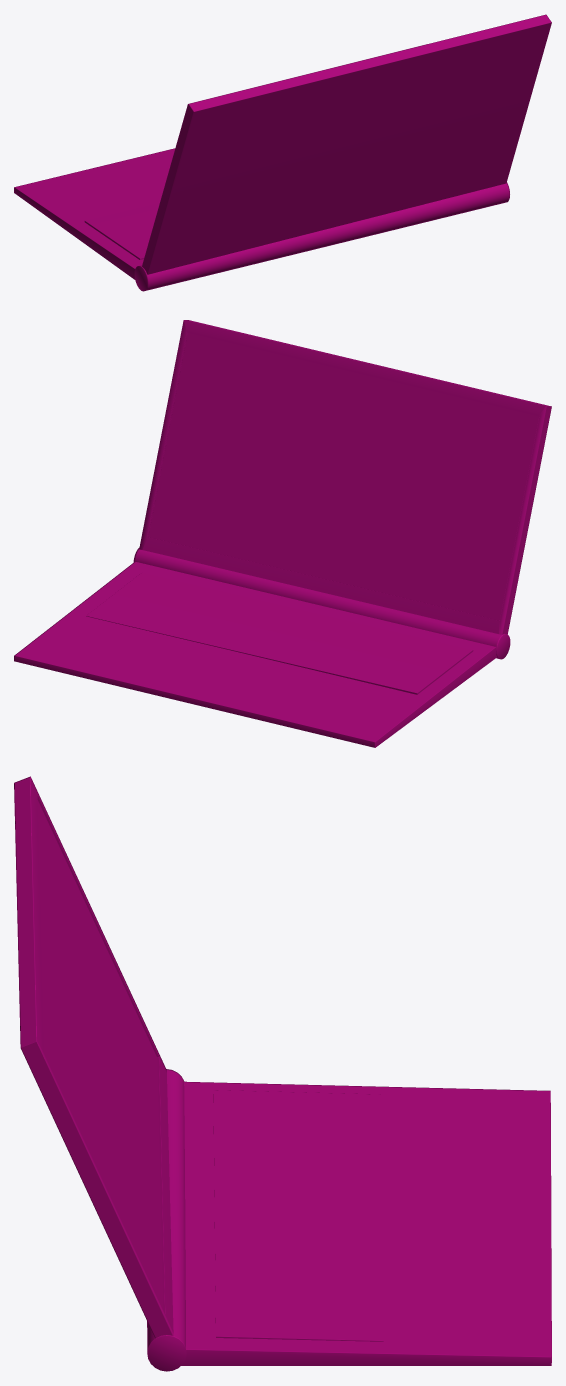
File: Laptop Mod.fbx
The picture shows the model from 3 angles, top to bottom: view 1: azimuth 30°, elevation 25°; view 2: azimuth 150°, elevation 25°; view 3: azimuth 270°, elevation 25°; orthographic projection. The views are drawn at different scales.
Parts seen in each view (by area): view 1: polySurface27, polySurface30, polySurface29, polySurface28; view 2: Laptop_Screen, polySurface30, polySurface28, polySurface27, polySurface29; view 3: polySurface30, polySurface28, Laptop_Screen, polySurface27, polySurface29.
Boxes of the visible parts, x1,y1,x2,y2 form: polySurface27: [142, 14, 551, 274]; polySurface30: [14, 148, 175, 279]; polySurface29: [134, 182, 509, 291]; polySurface28: [84, 202, 159, 259]; Laptop_Screen: [148, 332, 539, 620]; polySurface30: [14, 561, 496, 747]; polySurface28: [86, 572, 473, 694]; polySurface27: [139, 320, 551, 634]; polySurface29: [133, 547, 510, 659]; polySurface30: [181, 1081, 551, 1365]; polySurface28: [213, 1090, 383, 1341]; Laptop_Screen: [37, 800, 163, 1309]; polySurface27: [14, 776, 173, 1338]; polySurface29: [147, 1069, 186, 1371].
Bounding box in the file's own units: 37.37 × 21.51 × 31.81.
